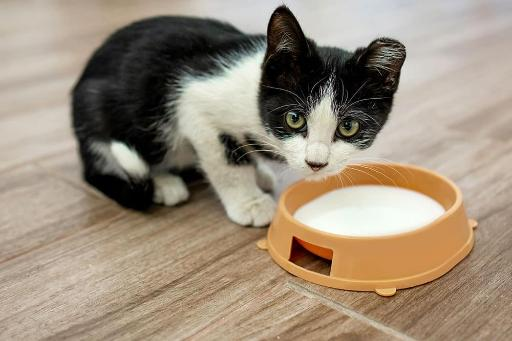cat_eating: (73, 6, 477, 296)
